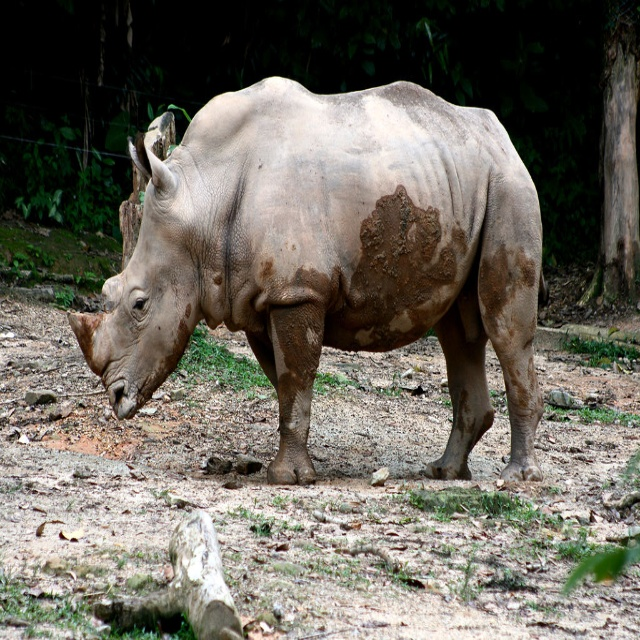Rhinoceros: (66, 73, 552, 481)
